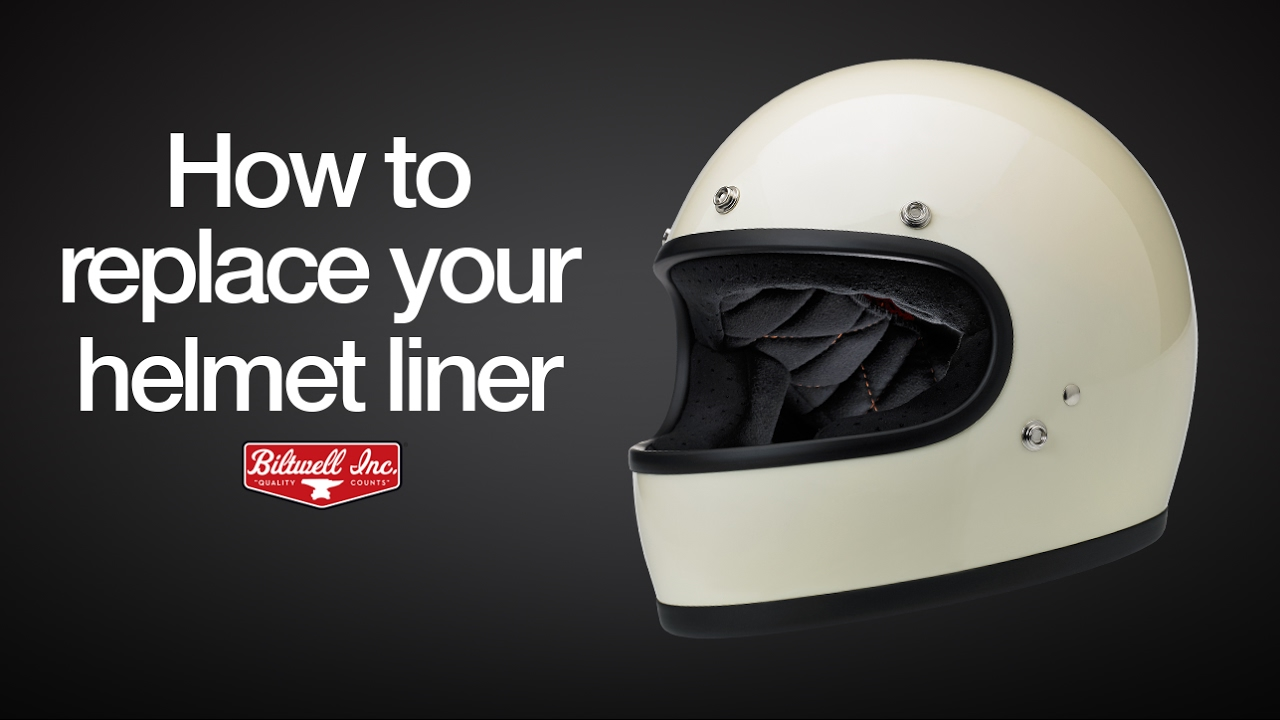with_helmet: (610, 51, 1208, 654)
